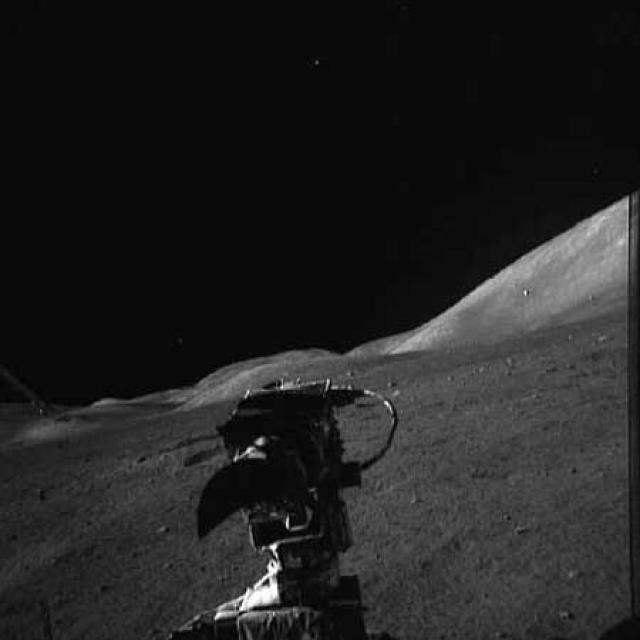artifact: (146, 371, 426, 639)
crater: (566, 336, 632, 383)
